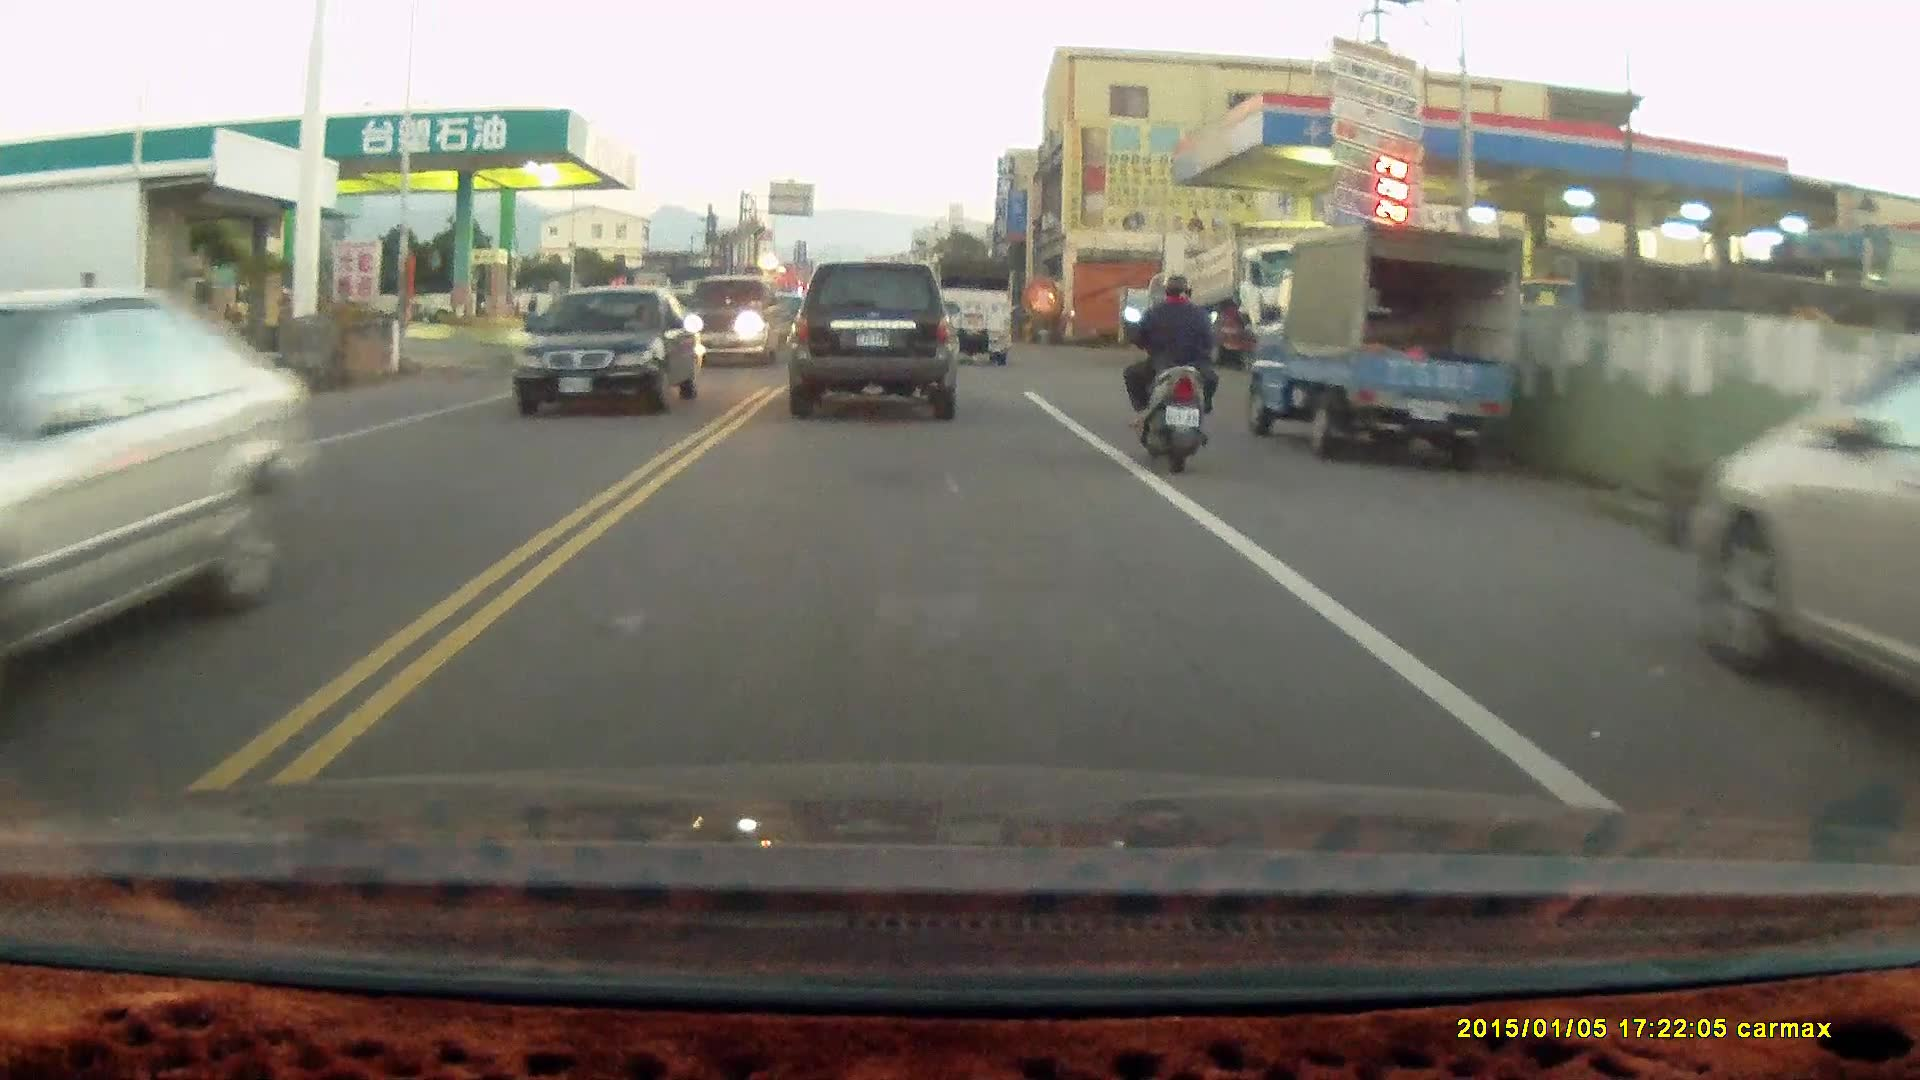rider: (1123, 275, 1223, 474)
vehicle: (1, 285, 315, 698), (1684, 328, 1920, 728), (1248, 222, 1530, 459), (788, 258, 959, 414), (517, 287, 710, 416), (678, 274, 786, 375), (920, 251, 1017, 362)
